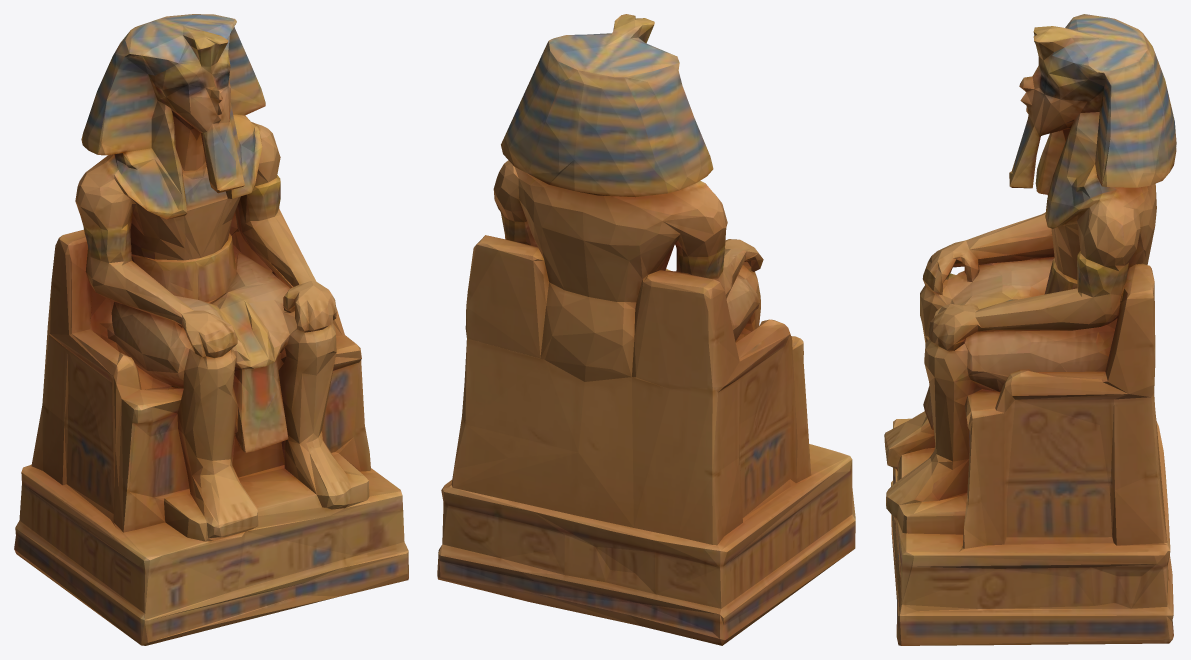
File: prop_pharaoh.glb
3 views of the same model, side by side, from view 1: azimuth 30°, elevation 25°; view 2: azimuth 150°, elevation 25°; view 3: azimuth 270°, elevation 25° (orthographic). The views are drawn at different scales.
Parts seen in each view (by area): view 1: geometry_0; view 2: geometry_0; view 3: geometry_0.
Part boxes in pixels (x1,y1,x2,y2): geometry_0: [14, 14, 408, 645]; geometry_0: [437, 14, 855, 645]; geometry_0: [884, 14, 1176, 645].
Size of the model in its own units: 0.543 by 0.9978 by 0.4814.
1 material, 1 textured.
